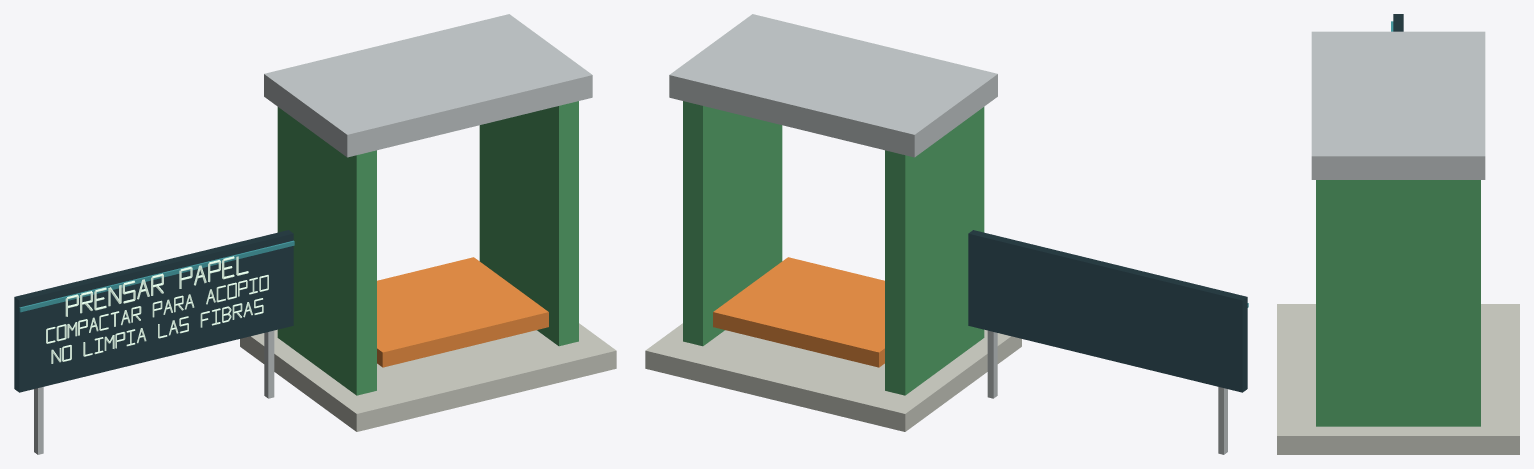
Rendered from CYCLE-012.glb.
The picture shows the model from 3 angles, left to right: view 1: azimuth 30°, elevation 25°; view 2: azimuth 150°, elevation 25°; view 3: azimuth 270°, elevation 25°; orthographic projection. The views are drawn at different scales.
Parts seen in each view (by area): view 1: CYCLE-012; view 2: CYCLE-012; view 3: CYCLE-012.
Boxes of the visible parts, x1,y1,x2,y2 form: CYCLE-012: [14, 14, 616, 454]; CYCLE-012: [645, 14, 1248, 454]; CYCLE-012: [1277, 14, 1519, 454].
Size of the model in its own units: 7.5 by 3.75 by 2.8.
